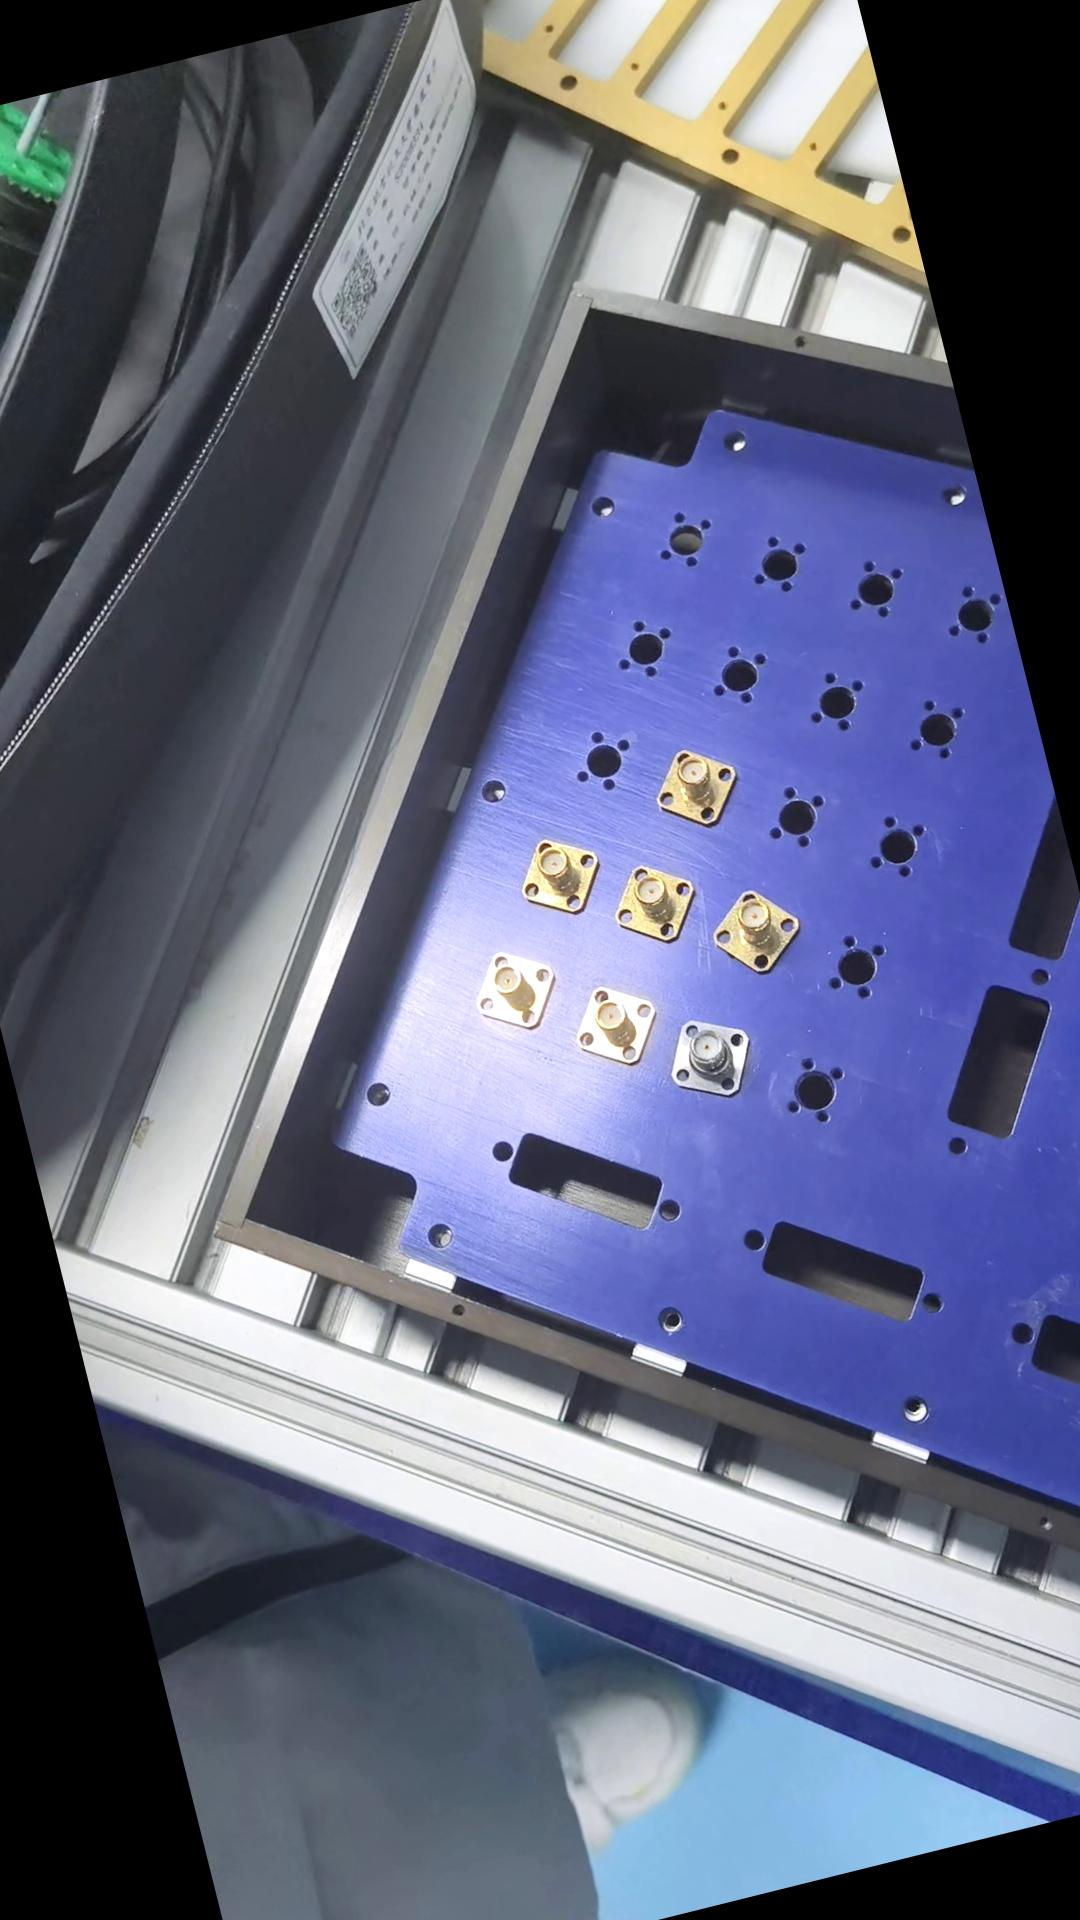SMA: (659, 1004, 765, 1114), (709, 877, 815, 980), (611, 847, 709, 953), (572, 969, 671, 1073), (647, 738, 750, 837), (468, 938, 564, 1040), (516, 823, 613, 923)
